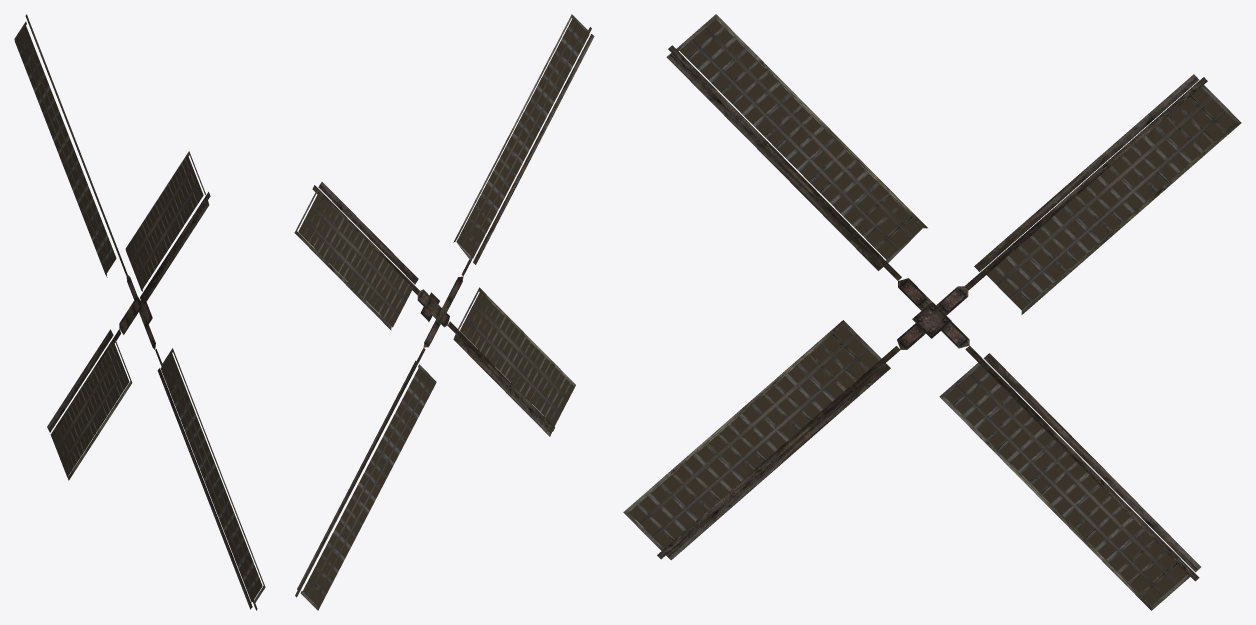
File: elice.obj
3 renders of one model, left to right at view 1: azimuth 30°, elevation 25°; view 2: azimuth 150°, elevation 25°; view 3: azimuth 270°, elevation 25°, orthographic. The views are drawn at different scales.
Parts seen in each view (by area): view 1: moara.001; view 2: moara.001; view 3: moara.001.
Part boxes in pixels (<box>): moara.001: <box>14,14,265,610</box>; moara.001: <box>294,14,594,610</box>; moara.001: <box>623,14,1241,610</box>.
Bounding box in the file's own units: 4.15 × 26.25 × 26.36.
Materials: 1 (1 with a texture image).
